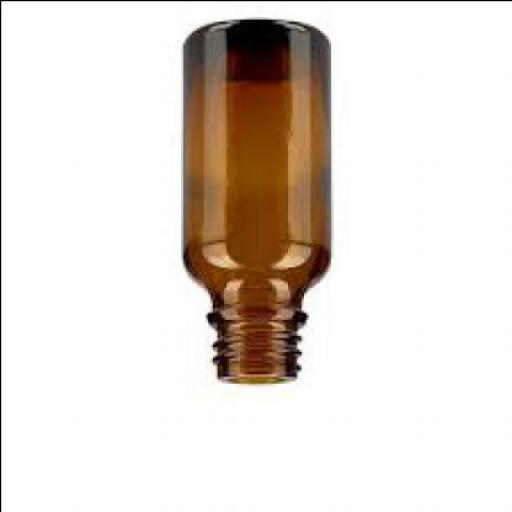glass: (182, 20, 332, 382)
